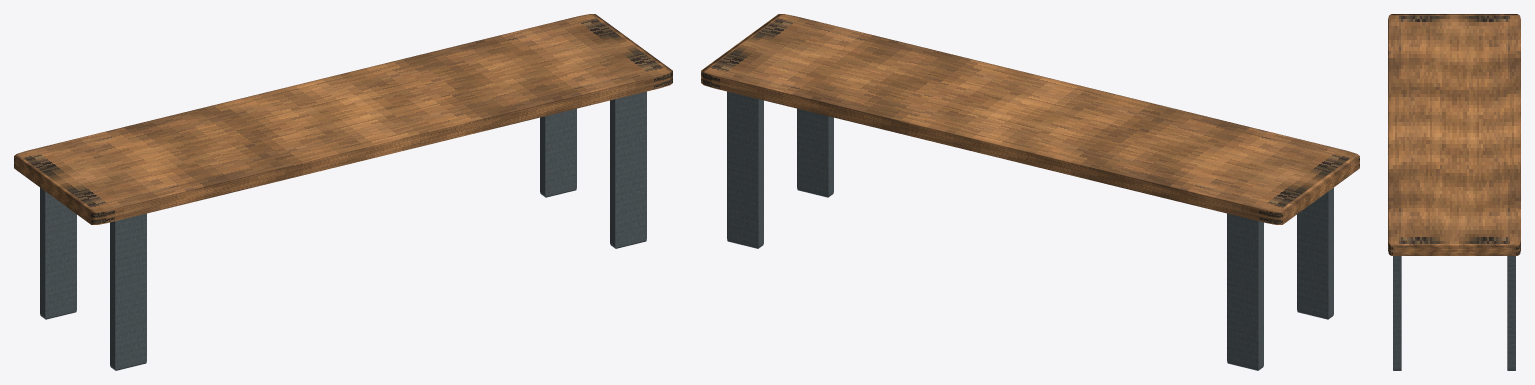
Rendered from locker-bench.glb.
3 renders of one model, left to right at view 1: azimuth 30°, elevation 25°; view 2: azimuth 150°, elevation 25°; view 3: azimuth 270°, elevation 25°, orthographic. The views are drawn at different scales.
Parts seen in each view (by area): view 1: top, leg (×4); view 2: top, leg (×4); view 3: top, leg (×2).
Boxes of the visible parts, x1,y1,x2,y2 form: top: (14, 14, 672, 224); leg (×4): (40, 91, 646, 370); top: (701, 14, 1359, 224); leg (×4): (727, 91, 1333, 370); top: (1388, 14, 1520, 255); leg (×2): (1393, 256, 1515, 370).
Size of the model in its own units: 1.65 by 0.45 by 0.4.
Materials: 2 (2 with a texture image).
